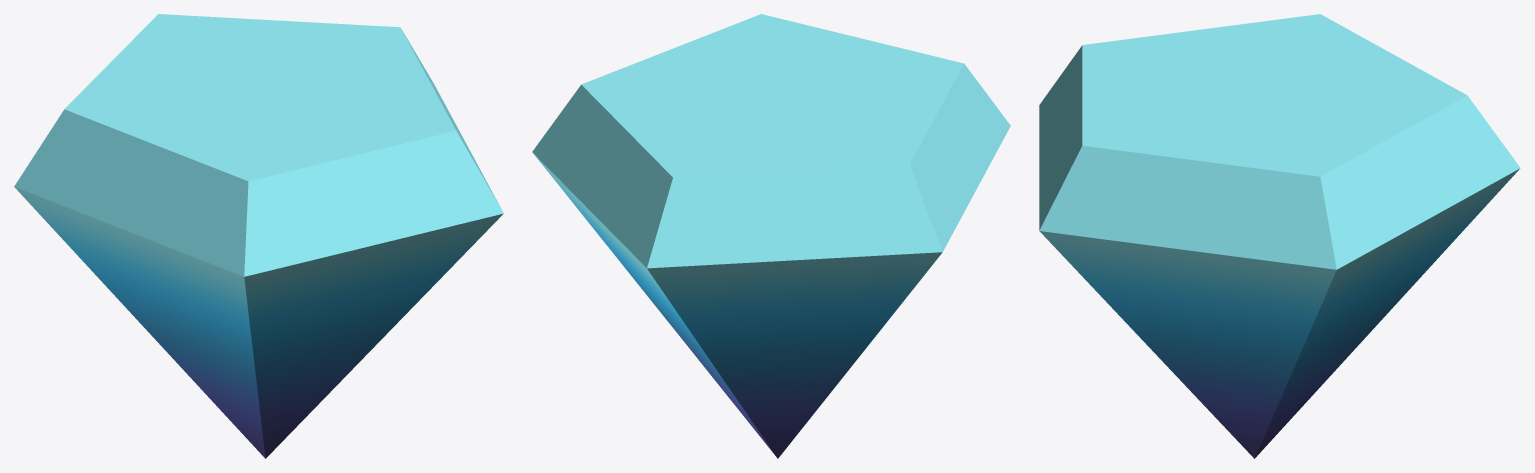
Rendered from gem1.glb.
The picture shows the model from 3 angles, left to right: view 1: azimuth 30°, elevation 25°; view 2: azimuth 150°, elevation 25°; view 3: azimuth 270°, elevation 25°; orthographic projection. The views are drawn at different scales.
Parts seen in each view (by area): view 1: Gem1; view 2: Gem1; view 3: Gem1.
Part boxes in pixels (x1,y1,x2,y2): Gem1: (14, 14, 503, 458); Gem1: (532, 14, 1010, 458); Gem1: (1039, 14, 1520, 458).
Bounding box in the file's own units: 1.2 × 1 × 1.2.
Materials: 1 (1 with a texture image).
